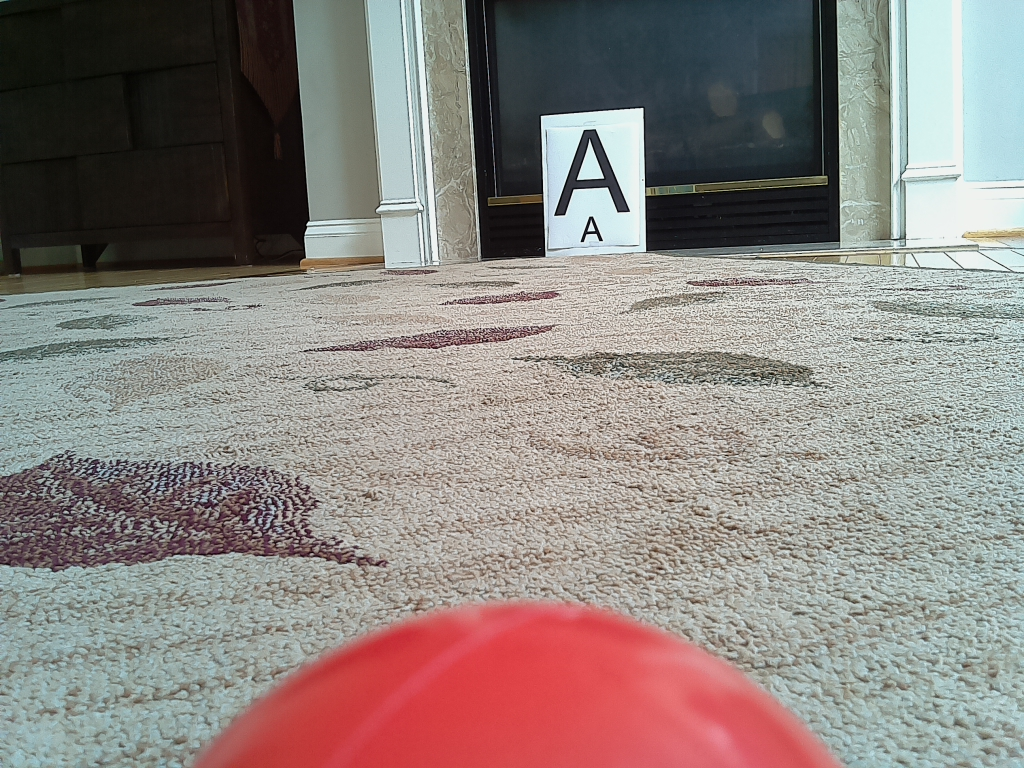letter: (554, 129, 631, 216)
